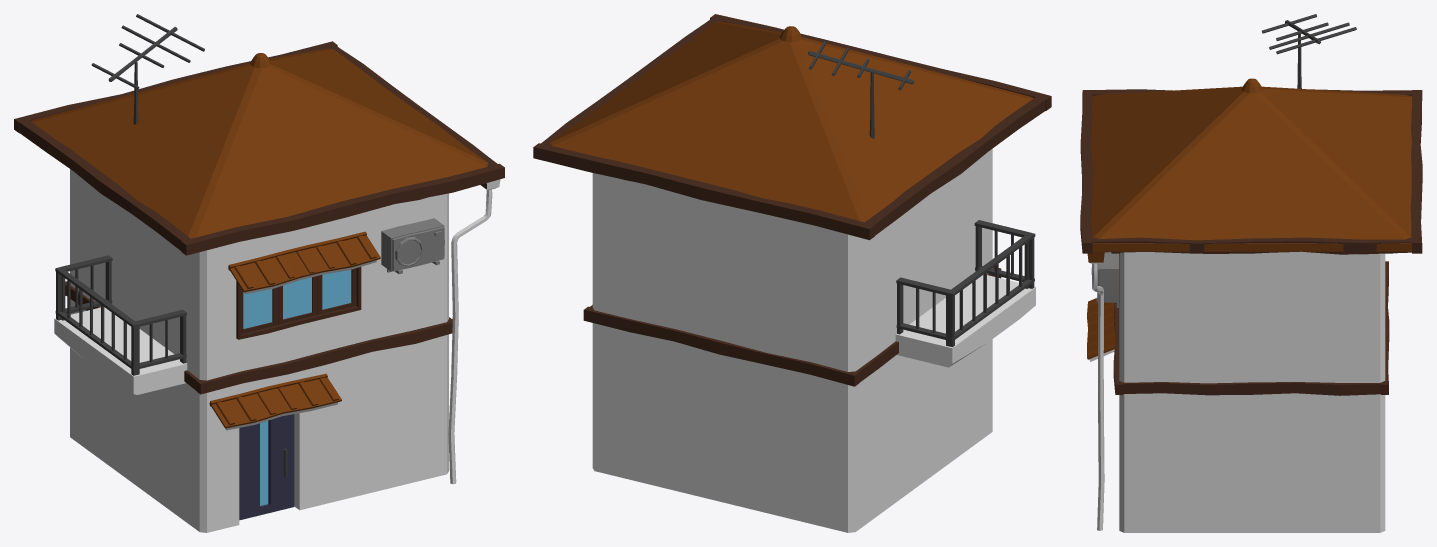
File: SM_house_01.fbx
3 views of the same model, side by side, from view 1: azimuth 30°, elevation 25°; view 2: azimuth 150°, elevation 25°; view 3: azimuth 270°, elevation 25° (orthographic). The views are drawn at different scales.
Parts seen in each view (by area): view 1: Object003; view 2: Object003; view 3: Object003.
Boxes of the visible parts, x1,y1,x2,y2 form: Object003: [14, 14, 504, 532]; Object003: [533, 14, 1051, 532]; Object003: [1080, 14, 1422, 532].
Bounding box in the file's own units: 246 × 292 × 220.
